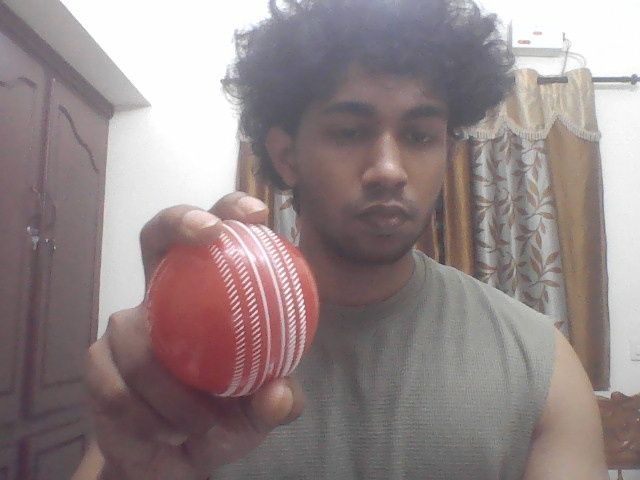cricket_ball: (142, 219, 327, 401)
